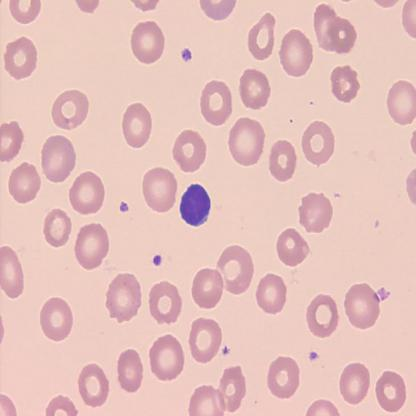Lymphocyte: (179, 182, 211, 226)
